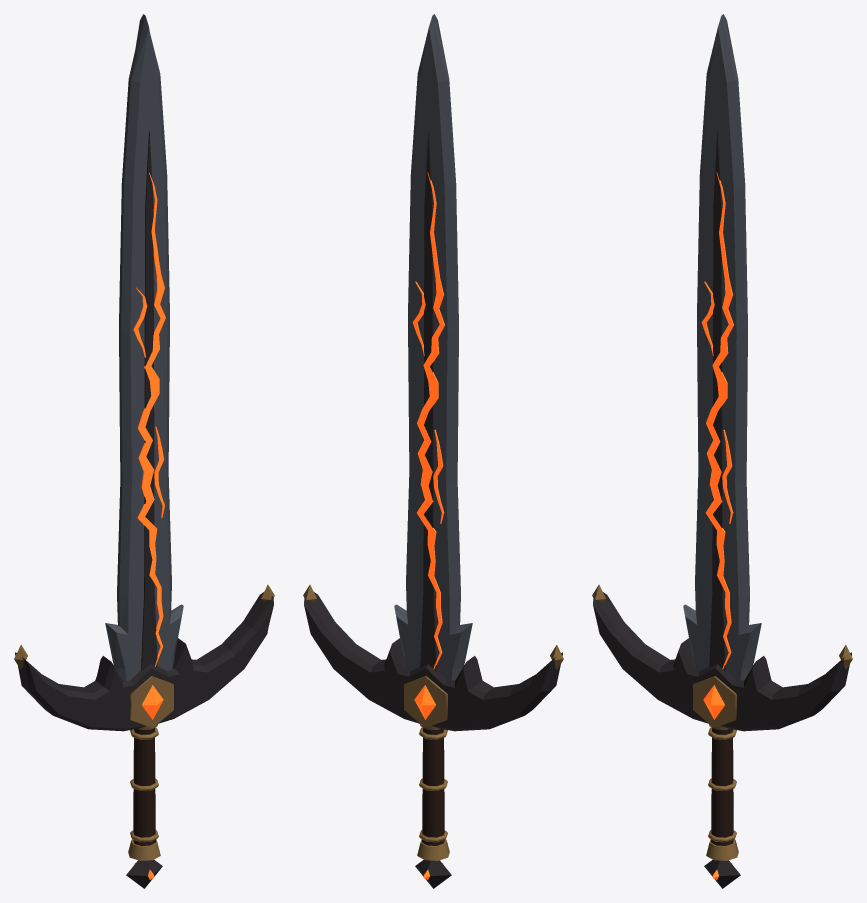
File: ember-greatsword.glb
3 views of the same model, side by side, from view 1: azimuth 30°, elevation 25°; view 2: azimuth 150°, elevation 25°; view 3: azimuth 330°, elevation 25° (orthographic).
Visible parts, largest first — view 1: blade, crossguard, blade_ridge_front, ember_crack_front, grip, guard_boss, pommel; view 2: blade, crossguard, blade_ridge_back, ember_crack_back, grip, guard_boss, pommel; view 3: blade, crossguard, blade_ridge_front, ember_crack_front, grip, guard_boss, pommel.
Part boxes in pixels (left/top/right/bottom): blade: left=105, top=14, right=183, bottom=680; crossguard: left=15, top=592, right=273, bottom=731; blade_ridge_front: left=141, top=131, right=157, bottom=670; ember_crack_front: left=133, top=172, right=165, bottom=666; grip: left=133, top=728, right=155, bottom=845; guard_boss: left=130, top=676, right=173, bottom=727; pommel: left=126, top=860, right=162, bottom=888; blade: left=394, top=14, right=472, bottom=680; crossguard: left=304, top=592, right=562, bottom=731; blade_ridge_back: left=420, top=131, right=436, bottom=670; ember_crack_back: left=412, top=172, right=444, bottom=669; grip: left=422, top=728, right=444, bottom=845; guard_boss: left=404, top=676, right=447, bottom=727; pommel: left=415, top=860, right=451, bottom=888; blade: left=683, top=14, right=761, bottom=680; crossguard: left=593, top=592, right=851, bottom=731; blade_ridge_front: left=709, top=131, right=725, bottom=670; ember_crack_front: left=701, top=172, right=733, bottom=669; grip: left=711, top=728, right=733, bottom=845; guard_boss: left=693, top=676, right=736, bottom=727; pommel: left=704, top=860, right=740, bottom=888.
Size of the model in its own units: 0.5328 by 1.71 by 0.085.
